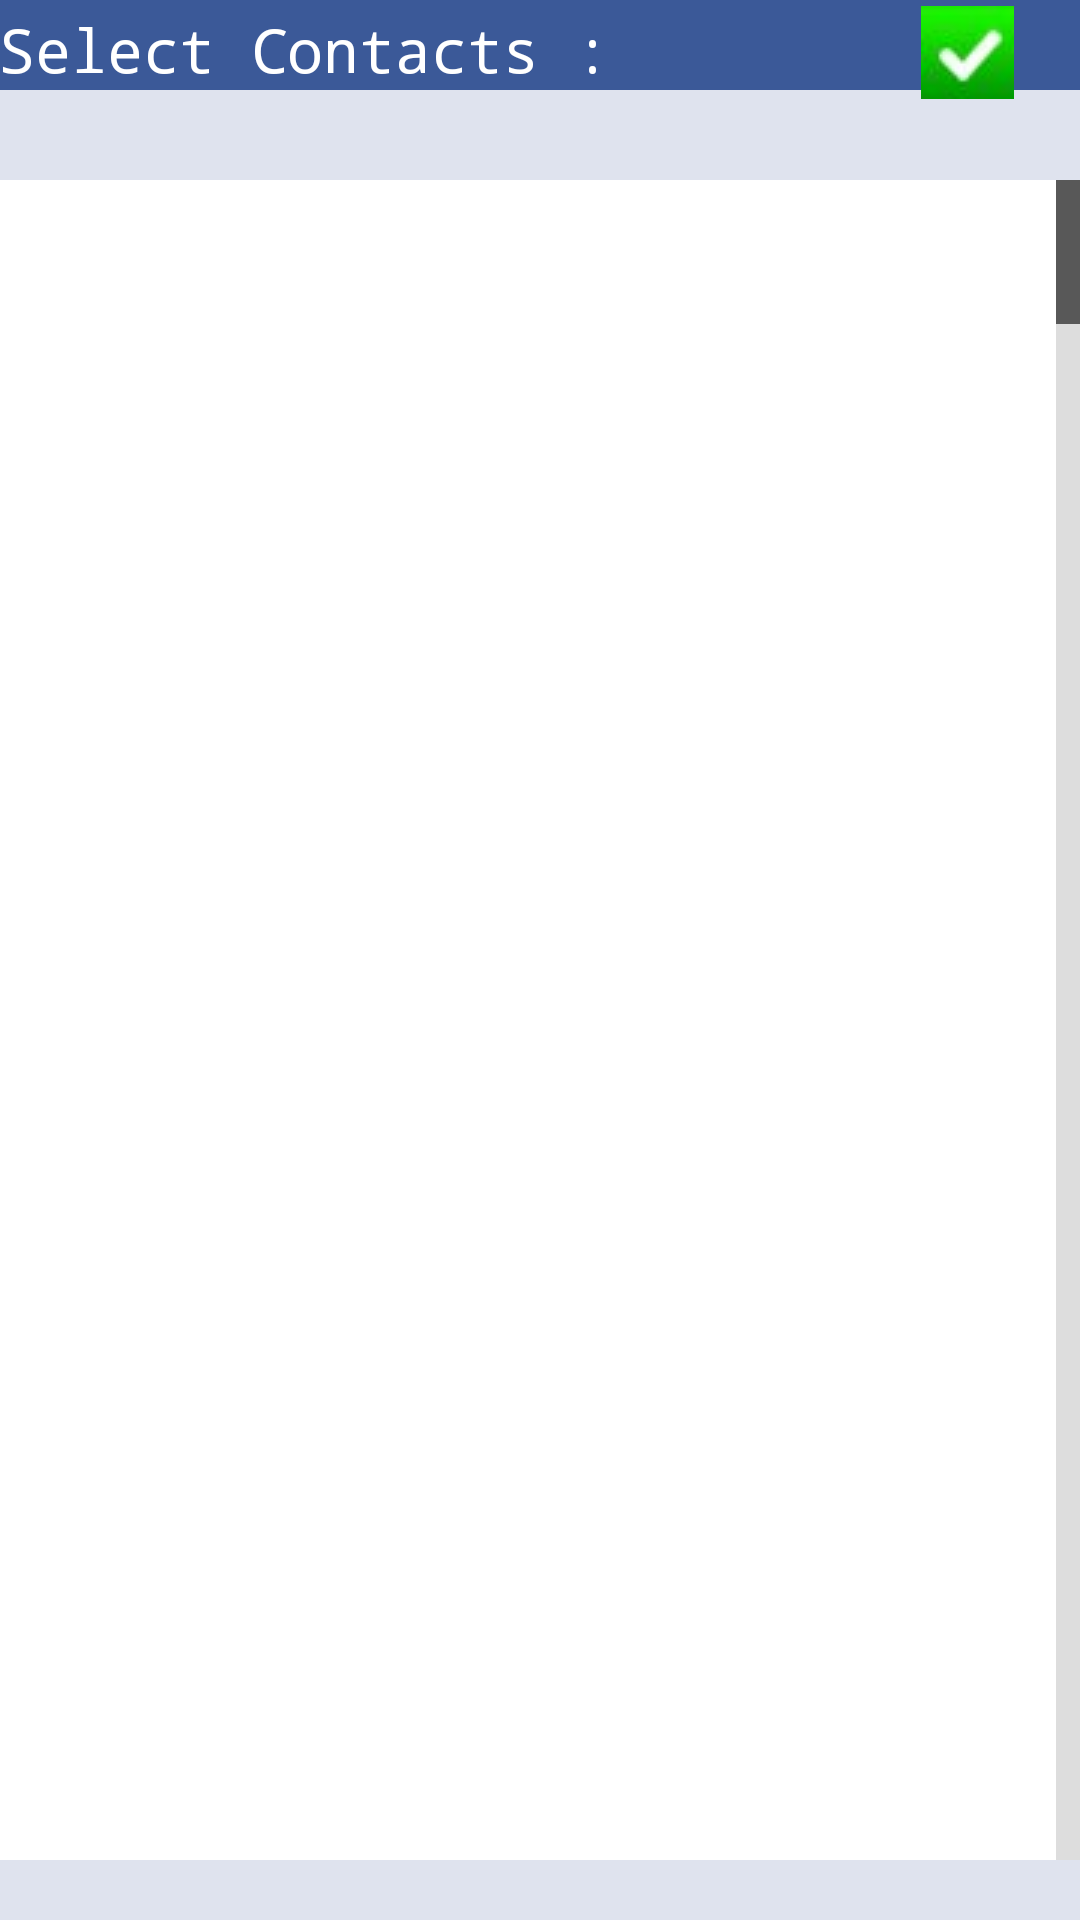

Named icons in this screenshot (1080x1920) and their centers, (x,y):
tick: (967,52)
